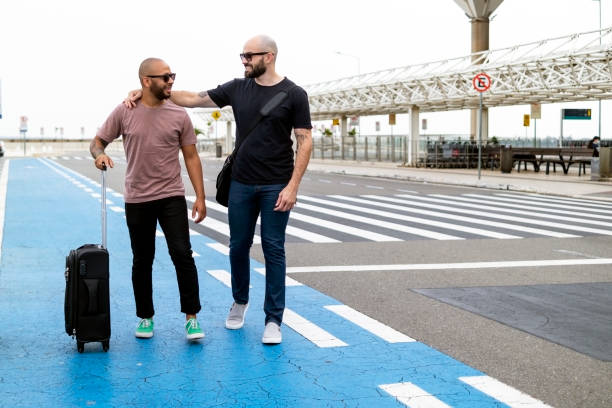yaya: (83, 53, 221, 325), (206, 31, 313, 343)
